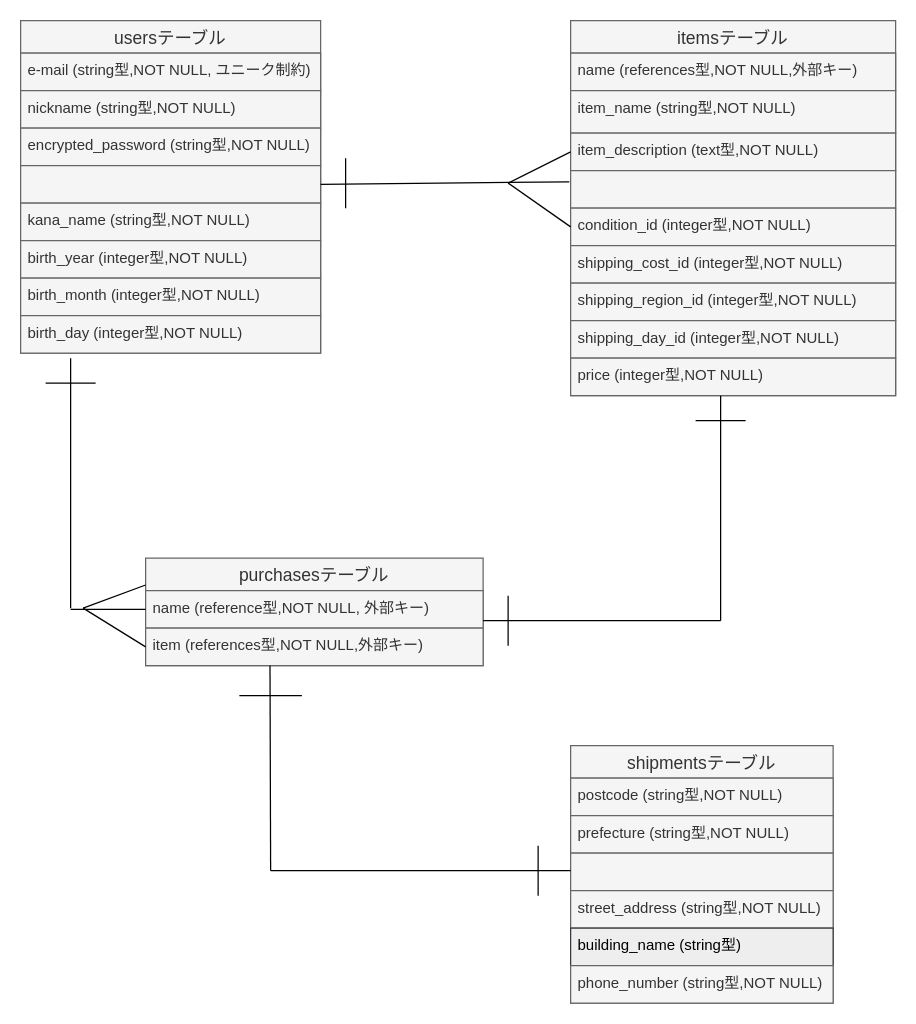
This 916x1024 diagram has some shape labels left out. The centre of each missing label's shape, as x and y in pixels:
category_id (integer型,NOT NULL): (732,188)
city_town_village (string型,NOT NULL): (701,871)
name (string型,NOT NULL): (170,183)
